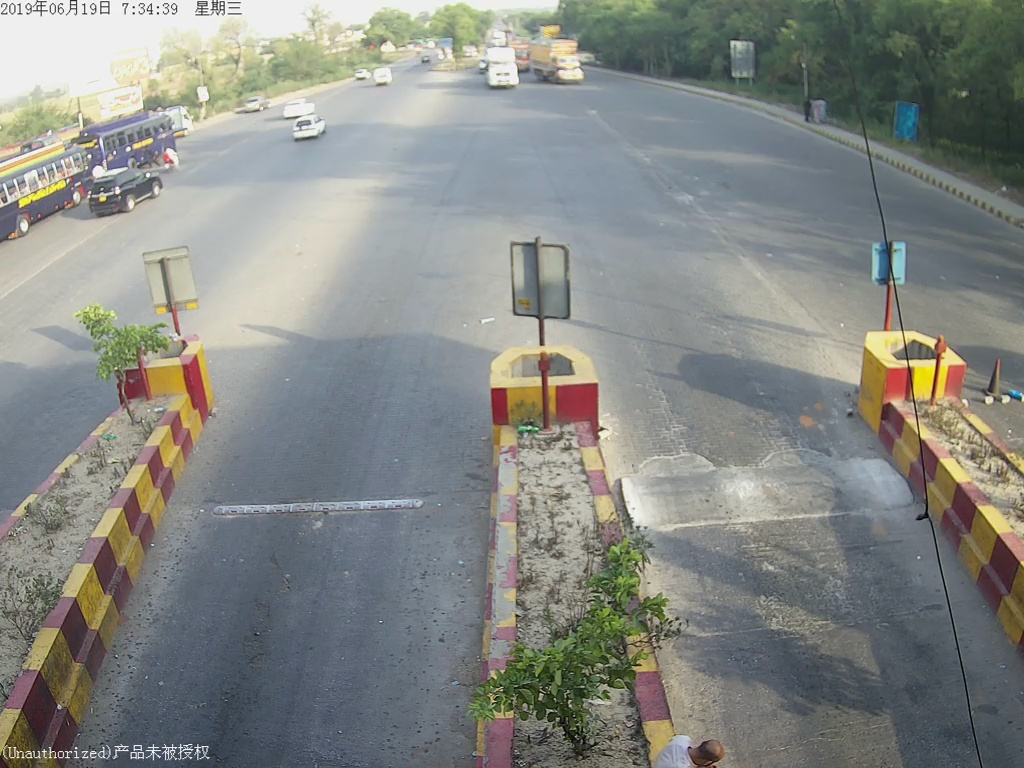Cat-4: (483, 46, 524, 90)
